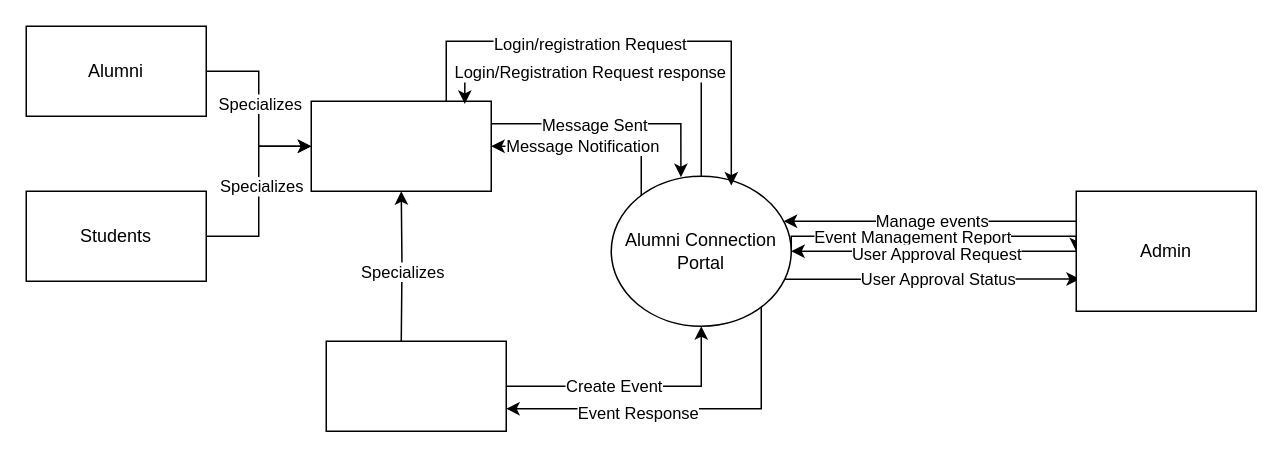
Image size: 1283x458. Some labels were removed from this diagram. Here are the shapes that lost their labels. From the top down, the box of each, then its label:
(310, 100, 491, 191): User
(325, 340, 506, 431): Faculty
